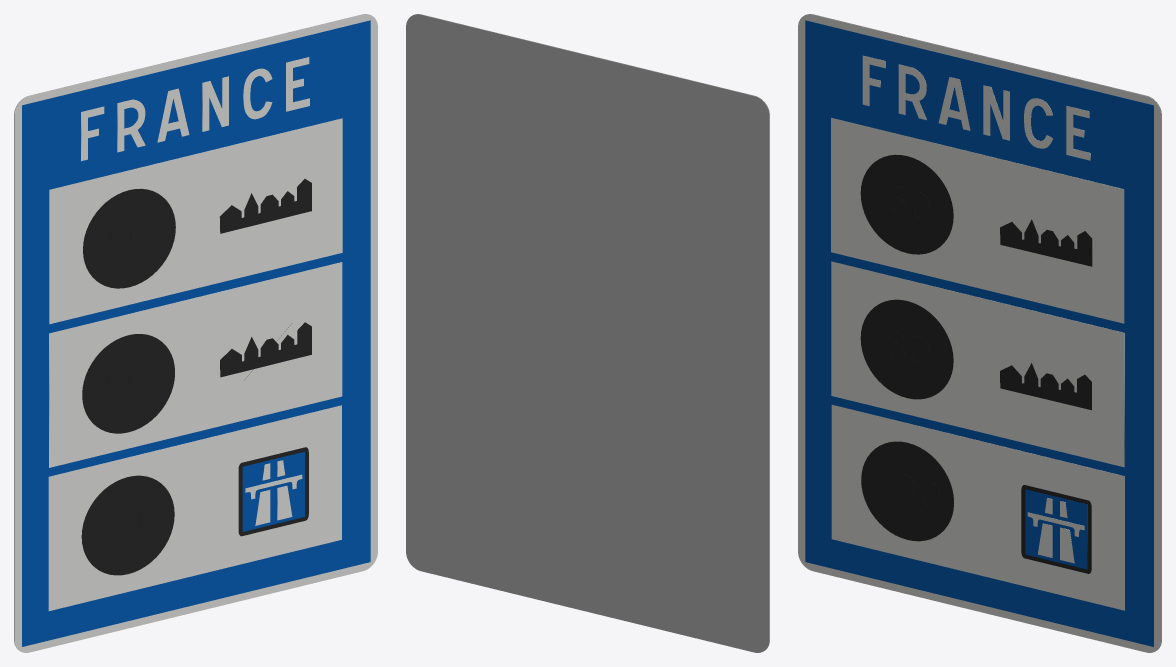
The picture shows the model from 3 angles, left to right: view 1: azimuth 30°, elevation 25°; view 2: azimuth 150°, elevation 25°; view 3: azimuth 330°, elevation 25°; orthographic projection.
Visible parts, largest first — view 1: C25a_p01, C25a_p06, C25a_p07, C25a_p02, C25a_p00, C25a_p24, C25a_p21, C25a_p17, C25a_p04, C25a_p14, C25a_p15, C25a_p05 (+8 smaller); view 2: C25a_dos, C25a_p00; view 3: C25a_p01, C25a_p07, C25a_p06, C25a_p02, C25a_p00, C25a_p24, C25a_p21, C25a_p17, C25a_p04, C25a_p14, C25a_p15, C25a_p05 (+8 smaller).
Part boxes in pixels (x1,y1,x2,y2): C25a_p01: (22, 20, 370, 646); C25a_p06: (49, 262, 342, 467); C25a_p07: (49, 118, 342, 324); C25a_p02: (48, 405, 341, 610); C25a_p00: (14, 14, 377, 652); C25a_p24: (83, 188, 175, 288); C25a_p21: (82, 334, 174, 433); C25a_p17: (81, 475, 174, 575); C25a_p04: (242, 451, 304, 531); C25a_p14: (219, 179, 311, 233); C25a_p15: (220, 322, 311, 377); C25a_p05: (245, 460, 302, 525); C25a_dos: (406, 14, 769, 652); C25a_p00: (415, 14, 769, 649); C25a_p01: (805, 20, 1153, 646); C25a_p07: (831, 117, 1124, 323); C25a_p06: (831, 261, 1124, 467); C25a_p02: (831, 405, 1124, 610); C25a_p00: (798, 14, 1161, 652); C25a_p24: (860, 154, 953, 254); C25a_p21: (860, 299, 953, 399); C25a_p17: (861, 441, 953, 541); C25a_p04: (1025, 489, 1087, 569); C25a_p14: (1000, 219, 1092, 266); C25a_p15: (1000, 363, 1091, 410); C25a_p05: (1027, 498, 1084, 563).
Bounding box in the file's own units: 0.7 × 1.02 × 0.0123.
